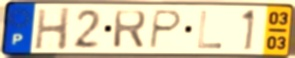1: (239, 9, 257, 52)
2: (71, 8, 104, 51)
H: (32, 6, 72, 52)
L: (196, 9, 224, 50)
P: (147, 9, 185, 51)
R: (111, 9, 149, 50)
